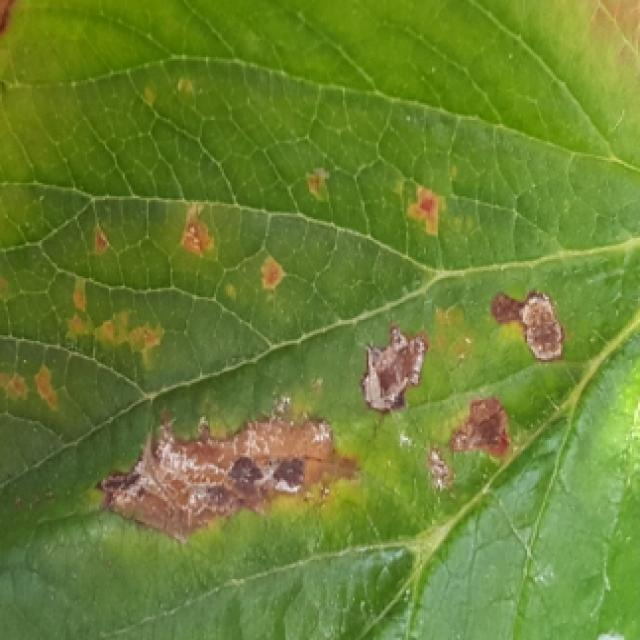Angular Leafspot: (0, 57, 605, 566)
